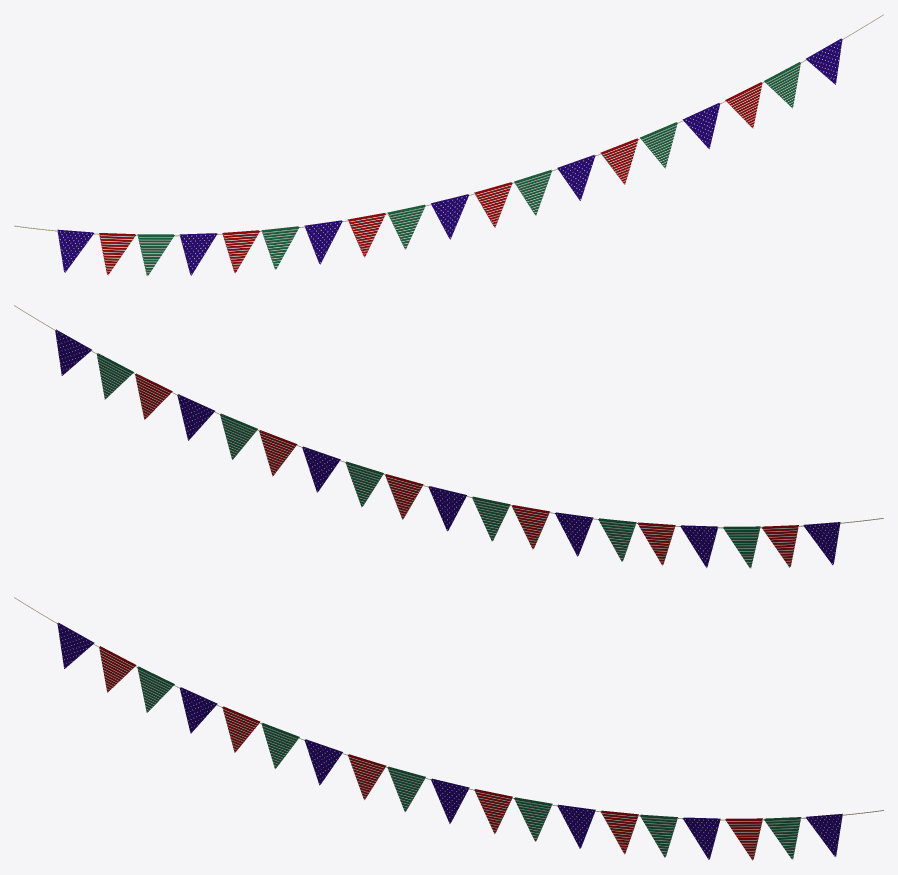
File: Flags.FBX
The picture shows the model from 3 angles, top to bottom: view 1: azimuth 30°, elevation 25°; view 2: azimuth 150°, elevation 25°; view 3: azimuth 330°, elevation 25°; orthographic projection.
Visible parts, largest first — view 1: Flags; view 2: Flags; view 3: Flags.
Part boxes in pixels (bbox=[...]): Flags: bbox=[14, 14, 883, 275]; Flags: bbox=[14, 305, 883, 568]; Flags: bbox=[14, 597, 883, 860].
Size of the model in its own units: 338 by 44.6 by 1.11.
